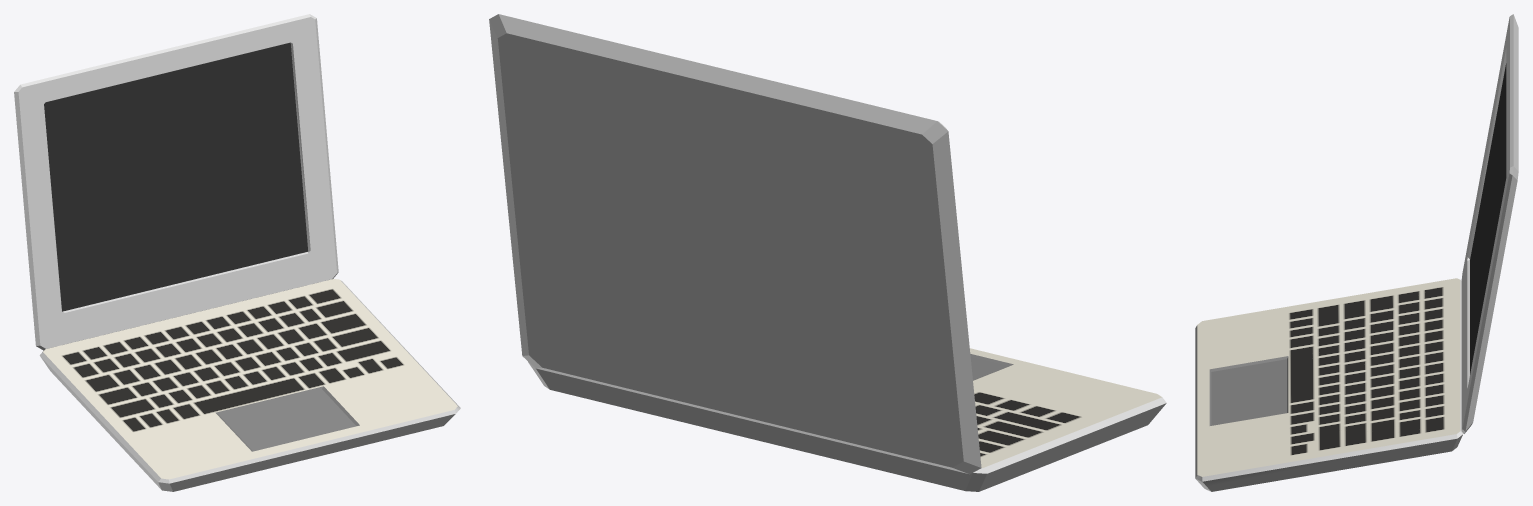
Rendered from notebook.FBX.
3 renders of one model, left to right at view 1: azimuth 30°, elevation 25°; view 2: azimuth 150°, elevation 25°; view 3: azimuth 270°, elevation 25°, orthographic. The views are drawn at different scales.
Visible parts, largest first — view 1: notebook002, notebook003; view 2: notebook002, notebook003; view 3: notebook003, notebook002.
Part boxes in pixels (left/top/right/bottom): notebook002: left=14, top=14, right=338, bottom=350; notebook003: left=39, top=279, right=460, bottom=491; notebook002: left=489, top=14, right=981, bottom=474; notebook003: left=528, top=348, right=1166, bottom=491; notebook003: left=1195, top=278, right=1463, bottom=491; notebook002: left=1461, top=14, right=1518, bottom=433.
Size of the model in its own units: 34.46 by 33.11 by 29.6.
1 material, 1 textured.
